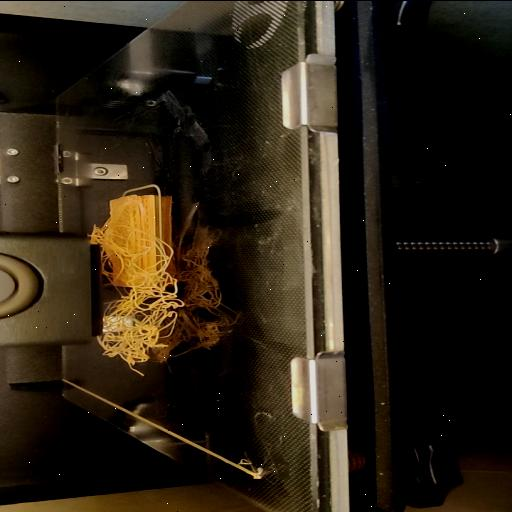spaghetti: (96, 284, 182, 374), (98, 236, 180, 286), (88, 221, 100, 242)
